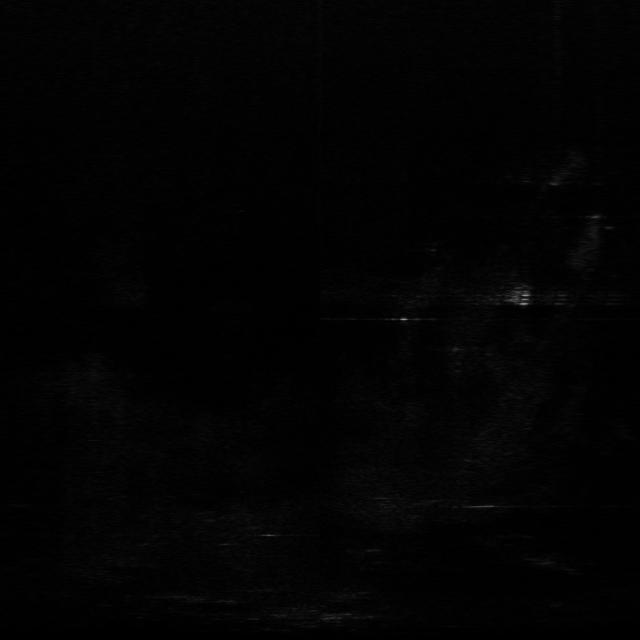rov: (507, 286, 533, 308)
